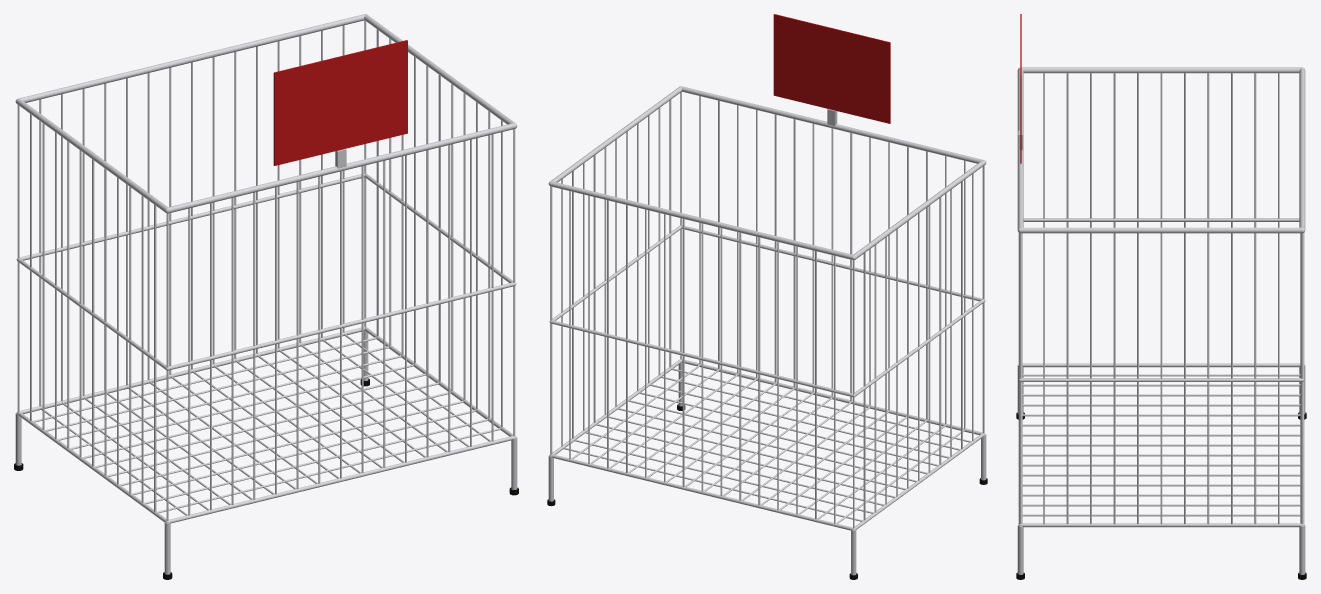
Rendered from 068_wire_dump_bin.glb.
3 views of the same model, side by side, from view 1: azimuth 30°, elevation 25°; view 2: azimuth 150°, elevation 25°; view 3: azimuth 270°, elevation 25° (orthographic). The views are drawn at different scales.
Visible parts, largest first — view 1: 000_wire_mesh_50_mm_grid_4_mm, 013_promo_sign, 003_perimeter_rail, 002_perimeter_rail, 001_perimeter_rail; view 2: 000_wire_mesh_50_mm_grid_4_mm, 013_promo_sign, 003_perimeter_rail, 002_perimeter_rail, 001_perimeter_rail; view 3: 000_wire_mesh_50_mm_grid_4_mm, 003_perimeter_rail, 001_perimeter_rail, 002_perimeter_rail.
Part boxes in pixels (<box>): 000_wire_mesh_50_mm_grid_4_mm: <box>17,20,515,520</box>; 013_promo_sign: <box>273,40,407,165</box>; 003_perimeter_rail: <box>15,14,517,213</box>; 002_perimeter_rail: <box>16,173,516,370</box>; 001_perimeter_rail: <box>16,327,516,523</box>; 000_wire_mesh_50_mm_grid_4_mm: <box>550,92,984,528</box>; 013_promo_sign: <box>773,14,890,123</box>; 003_perimeter_rail: <box>548,86,986,260</box>; 002_perimeter_rail: <box>549,225,985,397</box>; 001_perimeter_rail: <box>549,359,985,530</box>; 000_wire_mesh_50_mm_grid_4_mm: <box>1019,73,1303,524</box>; 003_perimeter_rail: <box>1017,67,1305,233</box>; 001_perimeter_rail: <box>1018,363,1304,527</box>; 002_perimeter_rail: <box>1018,218,1304,381</box>.
Bounding box in the file's own units: 0.798 × 1.03 × 0.598.
